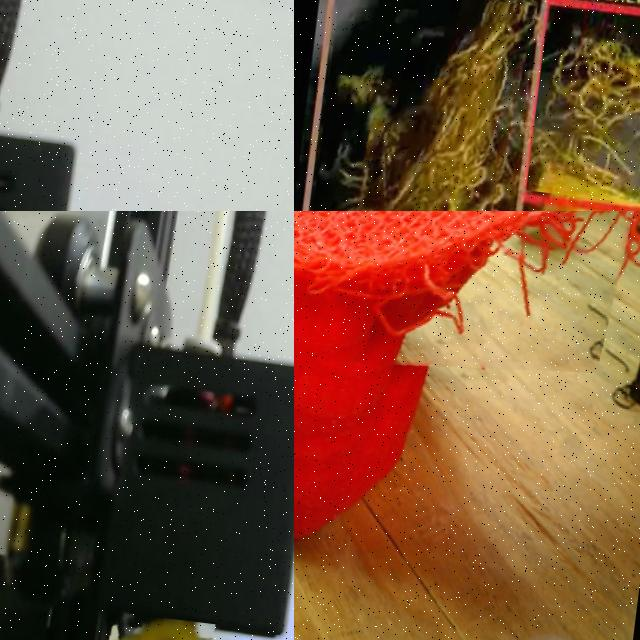spaghetti: (294, 211, 640, 419), (294, 0, 539, 211), (525, 13, 640, 211), (96, 611, 215, 640)
